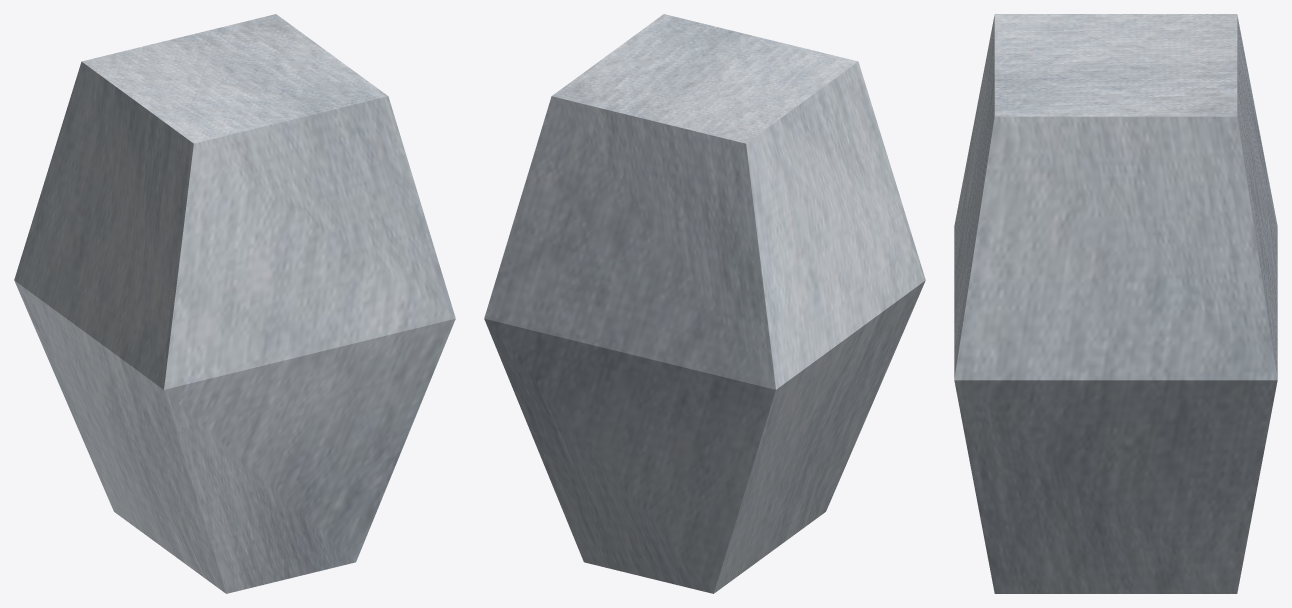
Rendered from body.obj.
The picture shows the model from 3 angles, left to right: view 1: azimuth 30°, elevation 25°; view 2: azimuth 150°, elevation 25°; view 3: azimuth 270°, elevation 25°; orthographic projection. The views are drawn at different scales.
Visible parts, largest first — view 1: Cube; view 2: Cube; view 3: Cube.
Part boxes in pixels (x1,y1,x2,y2): Cube: [14, 14, 455, 593]; Cube: [484, 14, 925, 593]; Cube: [954, 14, 1277, 593].
Size of the model in its own units: 1.8 by 2.7 by 1.6.
